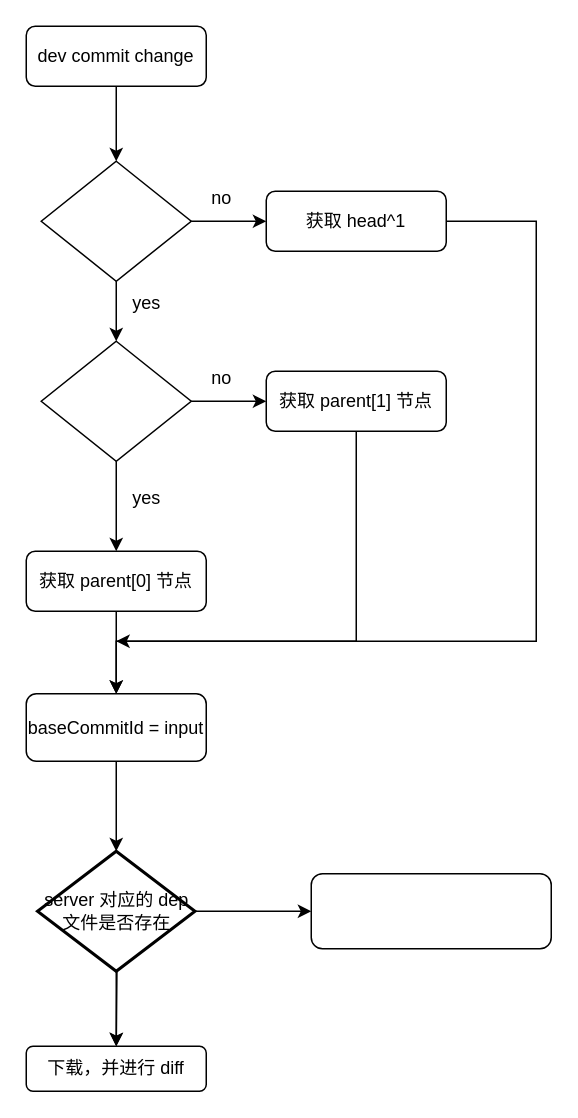
Image size: 578x1118. Some labels were removed from this diagram. Each missing label, with the centre of its shape:
"从别的分支 merge 进来的" goes at pixel 115 400.
"判断是否是 merge 节点" goes at pixel 115 220.
"找当前分支最近的 dep 文件，并进行 diff" goes at pixel 430 910.
